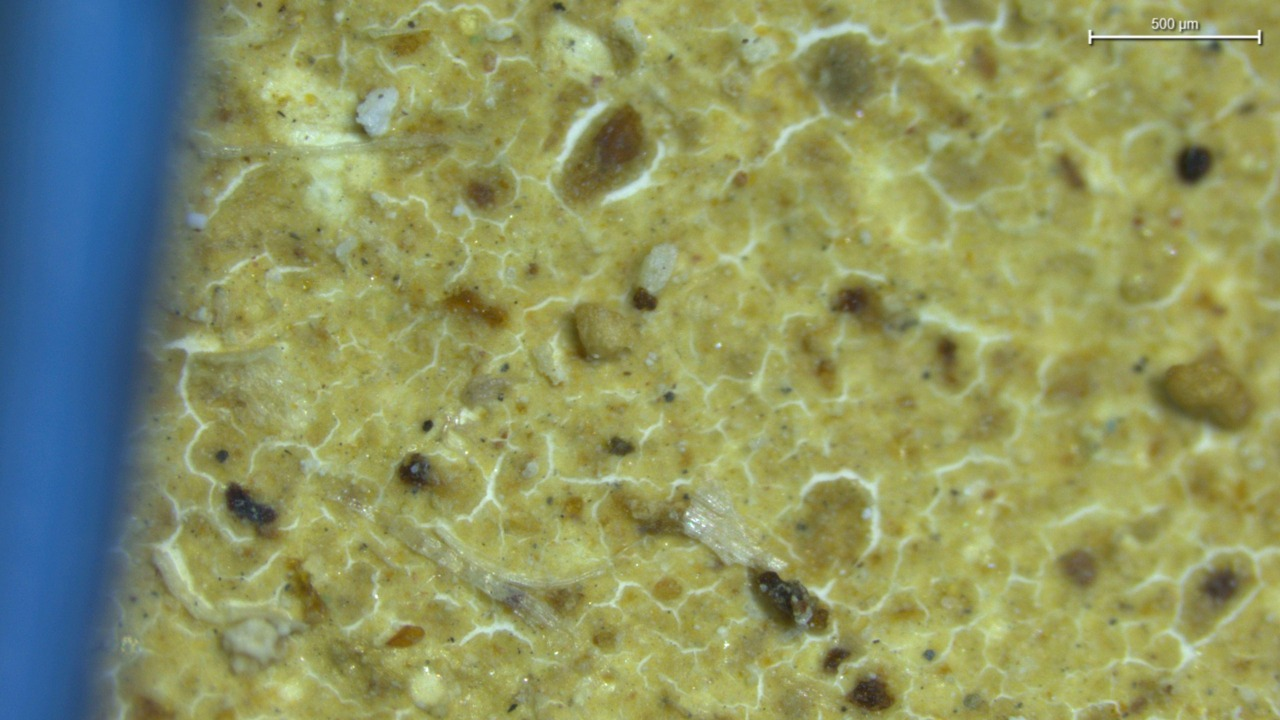microplastic_fragment: (680, 487, 782, 571), (1158, 352, 1254, 429), (573, 304, 638, 361), (355, 87, 398, 137)
